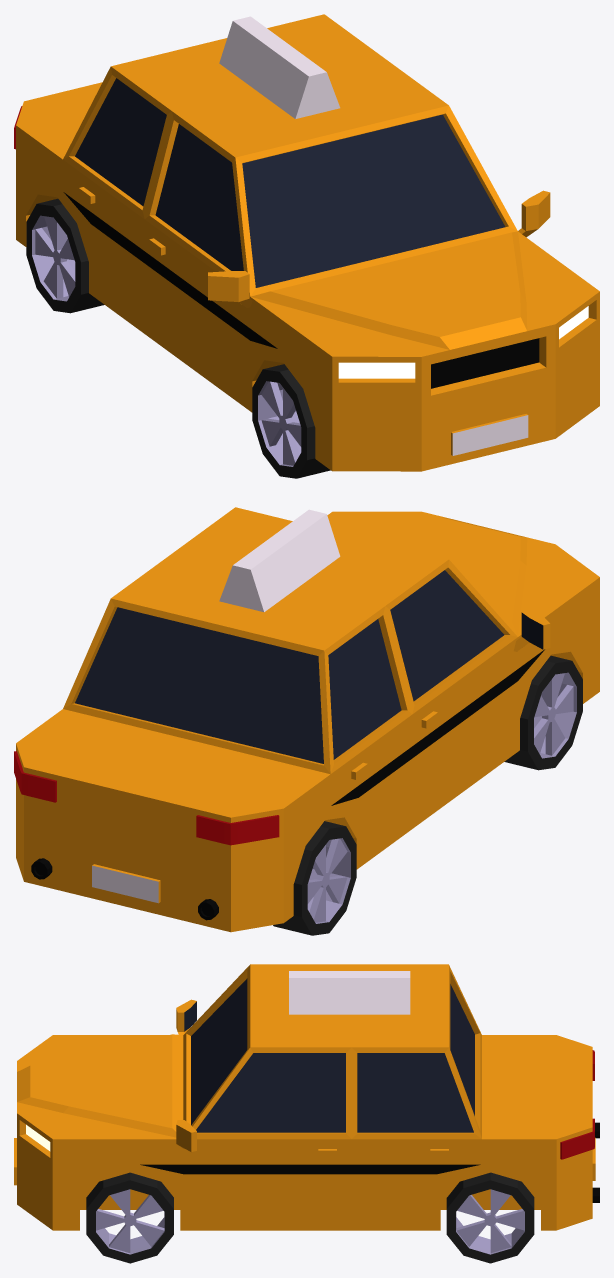
The model's file is taxi.glb.
3 views of the same model, one above another, from view 1: azimuth 30°, elevation 25°; view 2: azimuth 150°, elevation 25°; view 3: azimuth 270°, elevation 25° (orthographic). The views are drawn at different scales.
Visible parts, largest first — view 1: Taxi, wheel_front_right, wheel_rear_right; view 2: Taxi, wheel_rear_right, wheel_front_right; view 3: Taxi, wheel_rear_left, wheel_front_left.
Boxes of the visible parts, x1=… form: Taxi: x1=14, y1=14, x2=599, y2=471; wheel_front_right: x1=252, y1=364, x2=330, y2=478; wheel_rear_right: x1=26, y1=198, x2=104, y2=313; Taxi: x1=14, y1=507, x2=599, y2=932; wheel_rear_right: x1=273, y1=821, x2=356, y2=935; wheel_front_right: x1=504, y1=655, x2=582, y2=770; Taxi: x1=14, y1=964, x2=599, y2=1230; wheel_rear_left: x1=446, y1=1172, x2=534, y2=1263; wheel_front_left: x1=86, y1=1172, x2=173, y2=1263.
Size of the model in its own units: 281 by 232 by 523.
